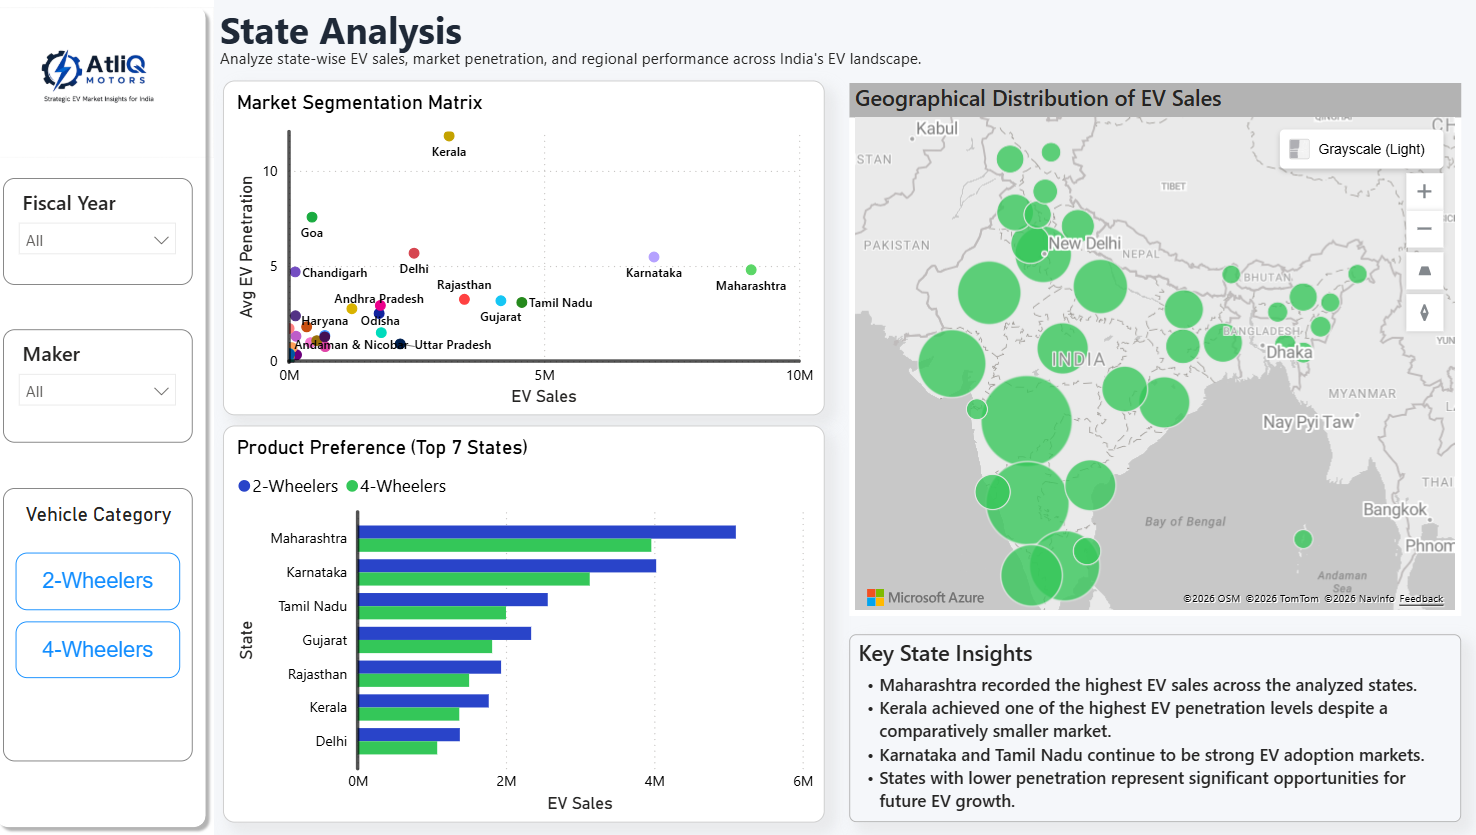

Layout of this report page (visuals, bound fields, positions):
{"tool":"powerbi","page":{"name":"State Analysis","canvas":[1280,720],"ordinal":3},"visuals":[{"type":"shape","box":[0,0,194.2,720.2],"z":0},{"type":"image","box":[0,0,194.2,145],"z":1000},{"type":"textbox","title":"Executive Overview","box":[194.2,0,325.7,73.6],"z":2000},{"type":"textbox","box":[194.2,37.4,696.1,43.4],"z":3000},{"type":"slicer","fields":{"Values":["Atliq.Fiscal_year"]},"box":[13.3,154.4,162.9,91.7],"z":4000},{"type":"slicer","fields":{"Values":["Atliq.State"]},"box":[13.3,284.7,162.9,97.7],"z":5000},{"type":"ChicletSlicer1448559807354","title":"Vehicle Category","fields":{"Category":["Atliq.Vehicle_category"]},"box":[13.3,421,162.9,235.3],"z":6000},{"type":"scatterChart","title":"Market Segmentation Matrix","fields":{"X":["Measure.Total_EV_Sales_State"],"Category":["Atliq.State"],"Y":["Avg(Atliq.EV_Penetration_%)"]},"box":[202.7,71.2,517.6,288.3],"z":7000},{"type":"clusteredBarChart","title":"Product Preference (Top 7 States)","fields":{"Category":["Atliq.State"],"Y":["Measure.Total_EV_Sales_State"],"Series":["Atliq.Vehicle_category"]},"box":[202.7,368,517.6,341.4],"z":8000},{"type":"azureMap","title":"Geographical Distribution of EV Sales","fields":{"Category":["Atliq.State"],"Size":["Measure.Total_EV_Sales_State"]},"box":[740.8,73.6,526,458.4],"z":9000},{"type":"textbox","title":"Key State Insights","box":[740.8,547.7,526,161.7],"z":10000}]}

Visuals, with their boxes in screenshot pixels (x1, y1, x2, y2), scaled from the page's 1280x720 canvas onto the 1476x835 screenshot:
shape: locate(0, 0, 224, 834)
image: locate(0, 0, 224, 168)
"Executive Overview" textbox: locate(224, 0, 600, 85)
textbox: locate(224, 43, 1027, 94)
slicer - Atliq.Fiscal_year: locate(15, 179, 203, 285)
slicer - Atliq.State: locate(15, 330, 203, 443)
"Vehicle Category" ChicletSlicer1448559807354: locate(15, 488, 203, 761)
"Market Segmentation Matrix" scatterChart: locate(234, 83, 831, 417)
"Product Preference (Top 7 States)" clusteredBarChart: locate(234, 427, 831, 823)
"Geographical Distribution of EV Sales" azureMap: locate(854, 85, 1461, 617)
"Key State Insights" textbox: locate(854, 635, 1461, 823)
